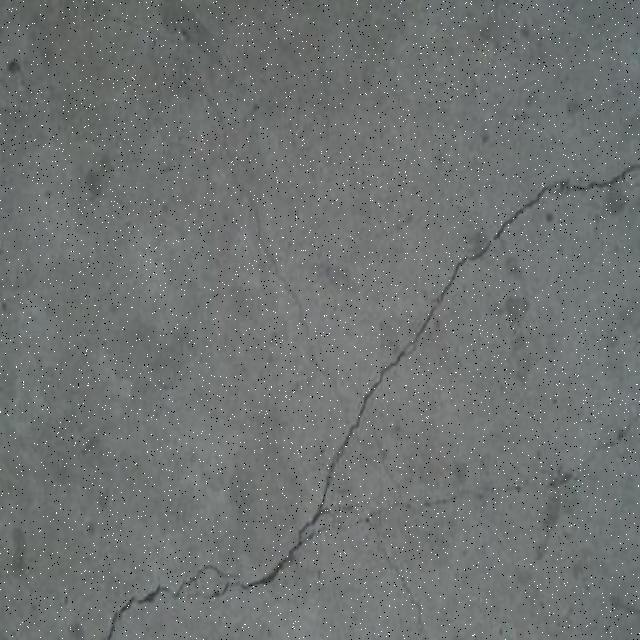Crack: (112, 166, 640, 638), (167, 0, 350, 421)
